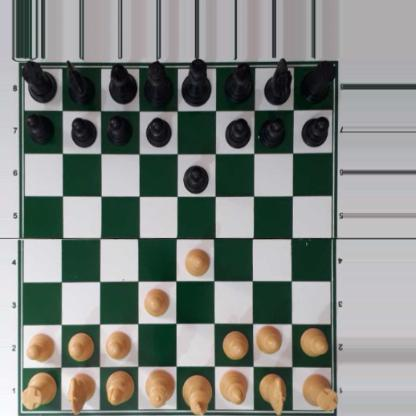black-bishop: (223, 61, 253, 103), (108, 61, 137, 103)
black-king: (181, 59, 211, 106)
black-knight: (66, 58, 94, 106), (264, 58, 291, 106)
black-pawn: (301, 115, 329, 148), (182, 161, 210, 193), (26, 113, 54, 143), (106, 114, 133, 145), (146, 115, 172, 147), (259, 115, 285, 147), (71, 115, 96, 147), (225, 119, 250, 148)
black-queen: (144, 61, 174, 106)
black-rook: (21, 58, 57, 103), (300, 61, 334, 103)
white-bishop: (219, 368, 247, 406), (105, 369, 133, 405)
white-king: (182, 372, 210, 416)
white-knight: (259, 371, 287, 415), (68, 372, 95, 414)
white-pawn: (24, 332, 55, 362), (300, 327, 328, 357), (104, 329, 132, 359), (143, 286, 170, 317), (183, 247, 210, 276), (256, 325, 282, 355), (67, 331, 93, 360), (221, 330, 247, 358)
white-queen: (142, 368, 177, 406)
white-rook: (301, 373, 338, 411), (20, 372, 57, 409)
